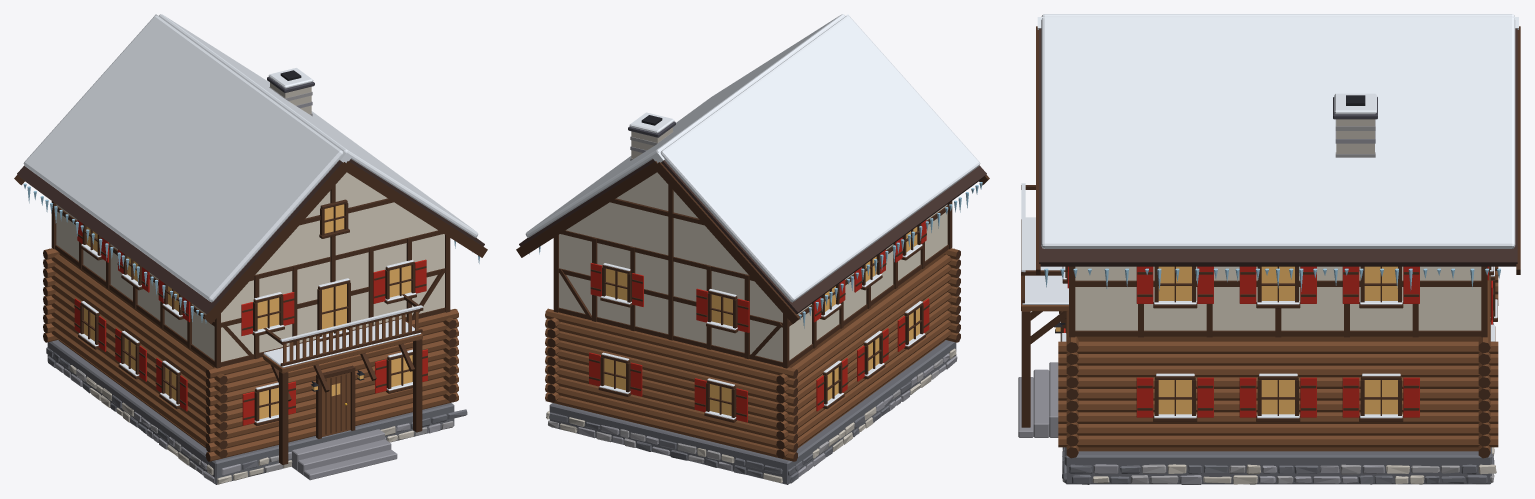
The model's file is lodge.obj.
The picture shows the model from 3 angles, left to right: view 1: azimuth 30°, elevation 25°; view 2: azimuth 150°, elevation 25°; view 3: azimuth 270°, elevation 25°; orthographic projection. The views are drawn at different scales.
Visible parts, largest first — view 1: lodge_Structure, lodge_Windows, lodge_Icicles; view 2: lodge_Structure, lodge_Windows, lodge_Icicles; view 3: lodge_Structure, lodge_Windows, lodge_Icicles.
Part boxes in pixels (x1,y1,x2,y2): lodge_Structure: [14, 14, 487, 484]; lodge_Windows: [84, 204, 412, 419]; lodge_Icicles: [23, 183, 479, 323]; lodge_Structure: [516, 14, 989, 484]; lodge_Windows: [604, 227, 919, 415]; lodge_Icicles: [529, 182, 982, 328]; lodge_Structure: [1018, 14, 1520, 484]; lodge_Windows: [1055, 266, 1397, 414]; lodge_Icicles: [1044, 268, 1500, 291].
Bounding box in the file's own units: 32.07 × 33.88 × 39.03.
Materials: 1 (1 with a texture image).
